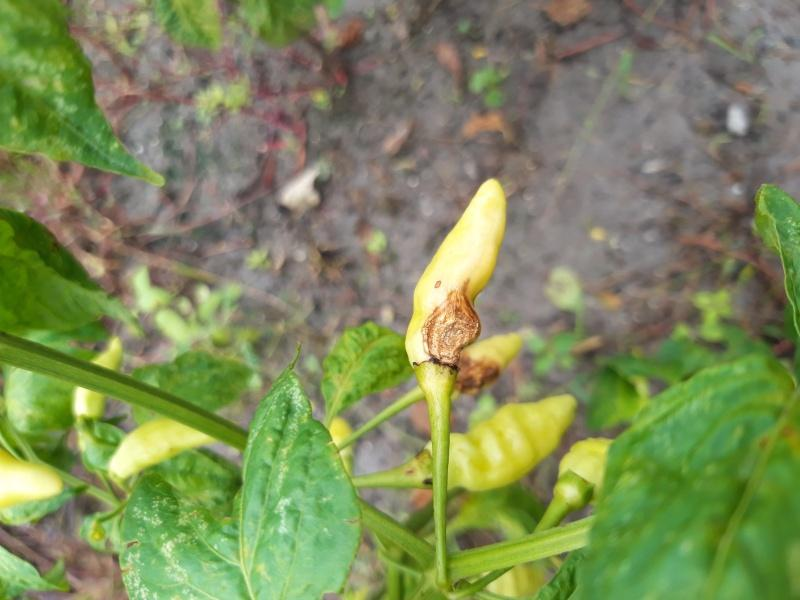antraknosa: (401, 170, 514, 381)
cabai_normal: (423, 393, 578, 491), (107, 413, 216, 478), (70, 336, 125, 419)
